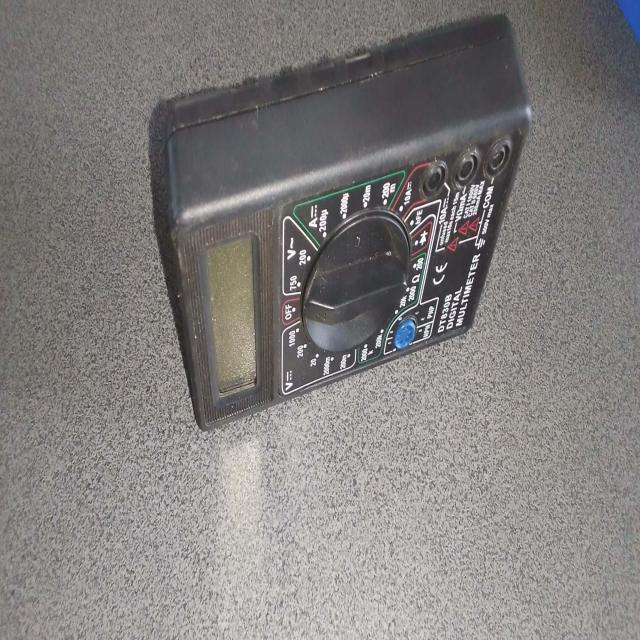Digital Multimeter: (149, 25, 541, 426)
